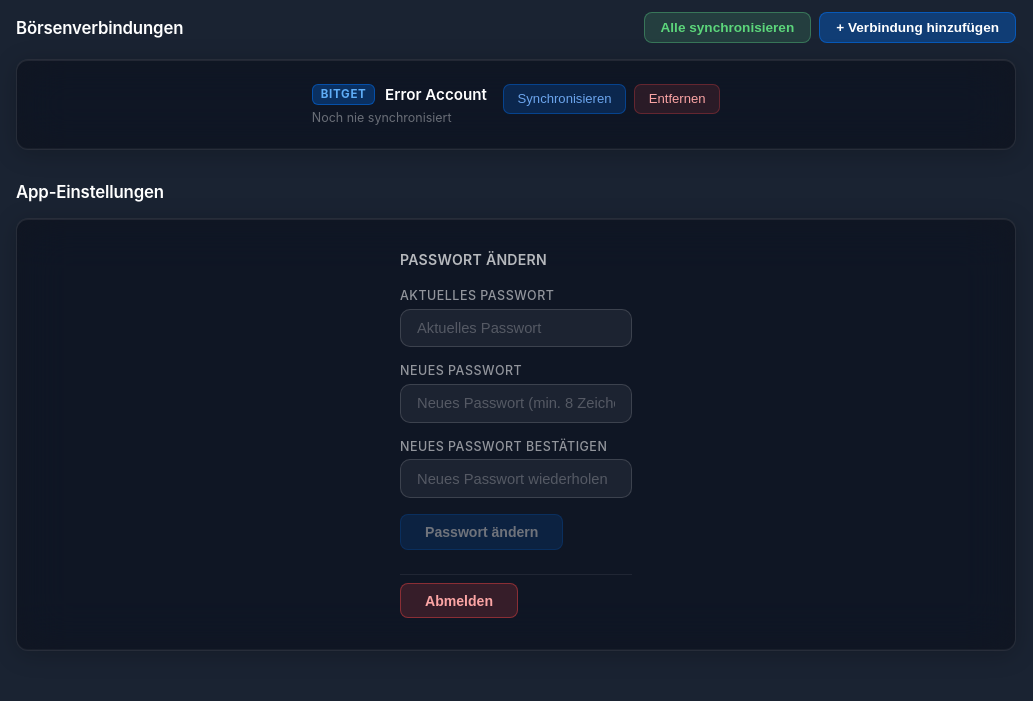
SettingsTab › shows sync error when sync POST fails
Click the button with aria-label "error account synchronisieren".
click(565, 99)  # box [503, 84, 626, 114]
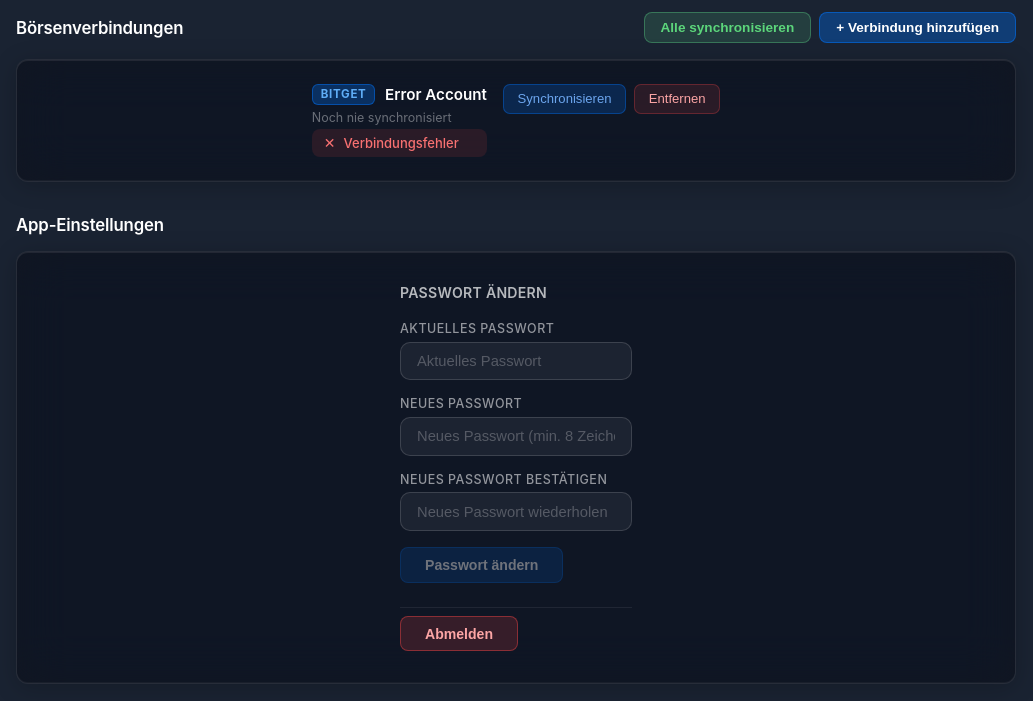
Now the element named "Synchronisierungsfehler" is shown, box [312, 130, 487, 158]
